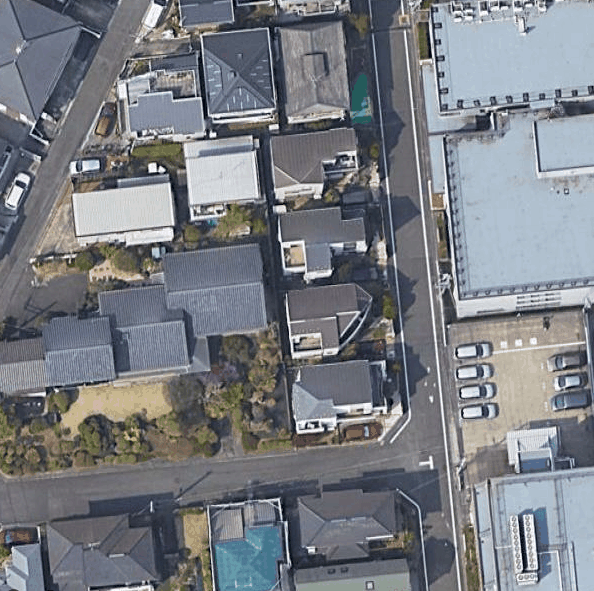facility: (492, 468, 592, 588)
rooftop: (445, 105, 592, 293)
